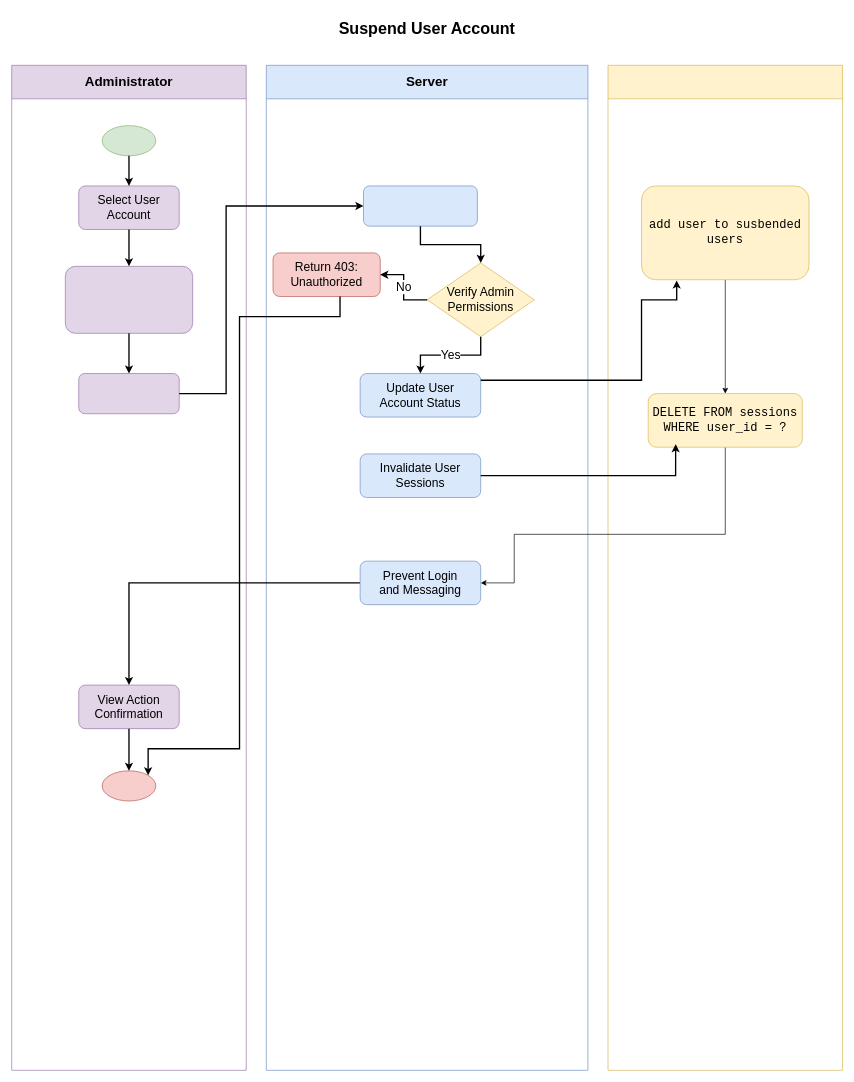
Some shapes in this 854 by 1082 pixel diagram are drawn without their labels. The shapes that lost their labels are listed below. From the top down, each one's box as (x1, y1, x2, y2) in pixels, then its label:
(102, 125, 156, 156): Start
(363, 185, 477, 226): Receive Suspend Request
(65, 266, 193, 333): Choose Action: • Temporarily Suspend • Permanently Ban
(78, 373, 179, 414): Confirm Action
(607, 65, 843, 1070): Database
(102, 770, 156, 801): End
